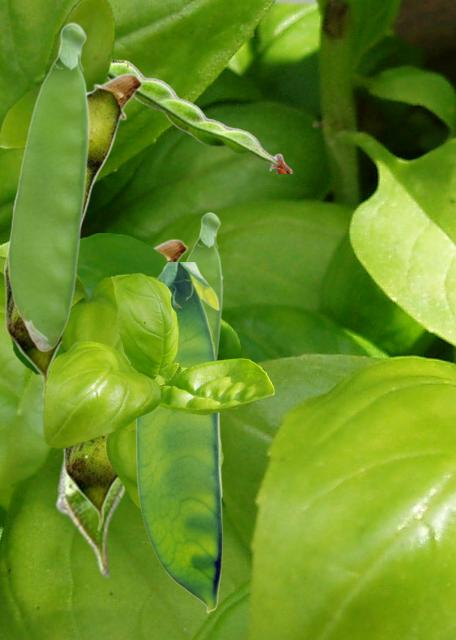pea: (54, 260, 223, 578), (4, 72, 142, 396), (63, 238, 187, 530), (135, 262, 221, 612), (7, 21, 89, 351), (108, 59, 292, 172), (185, 211, 222, 359)
